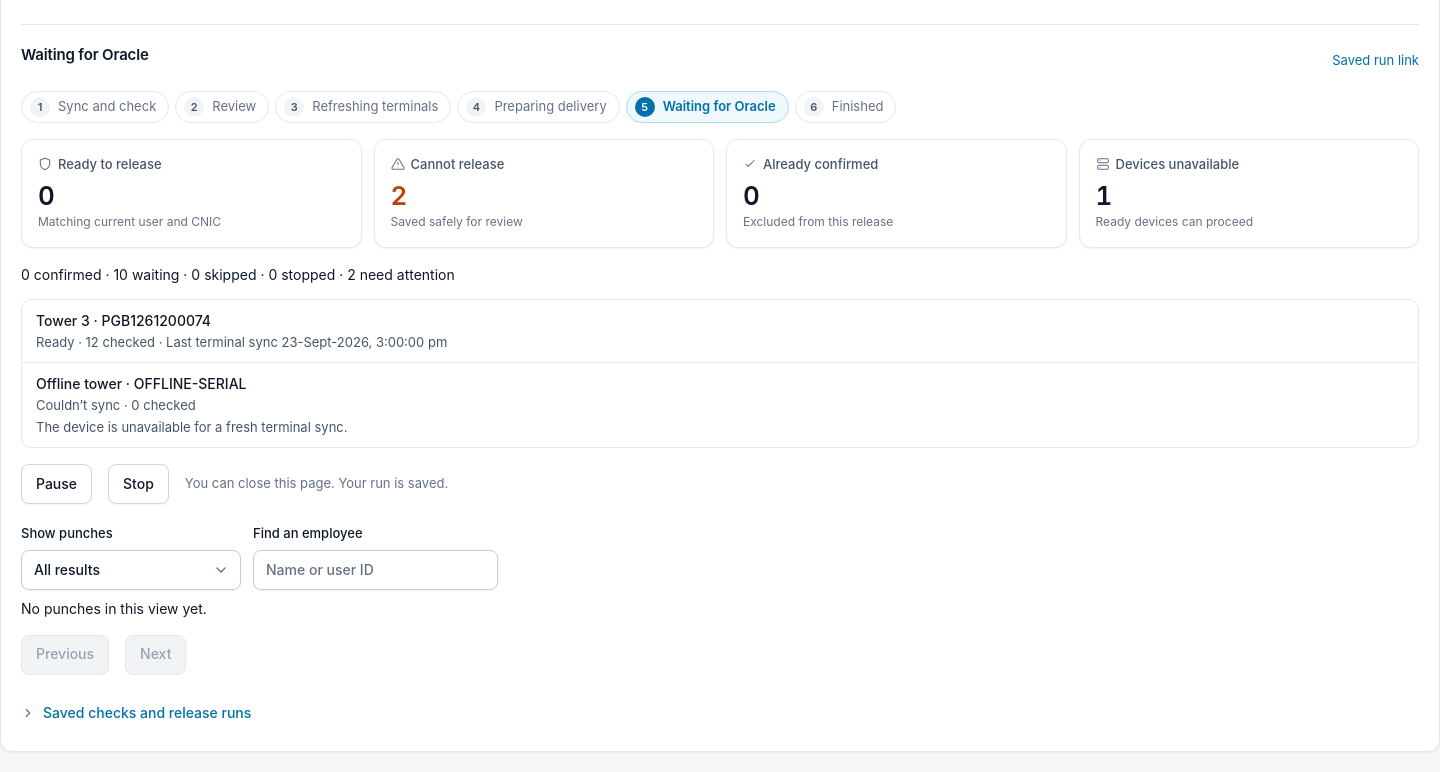
Test: restores a waiting run and explains stop without claiming completion
(page scrolled)
Expected: the heading "Waiting for Oracle" is shown, left=21, top=45, right=149, bottom=65
Click the button "Stop": [138, 484] box left=108, top=464, right=169, bottom=504
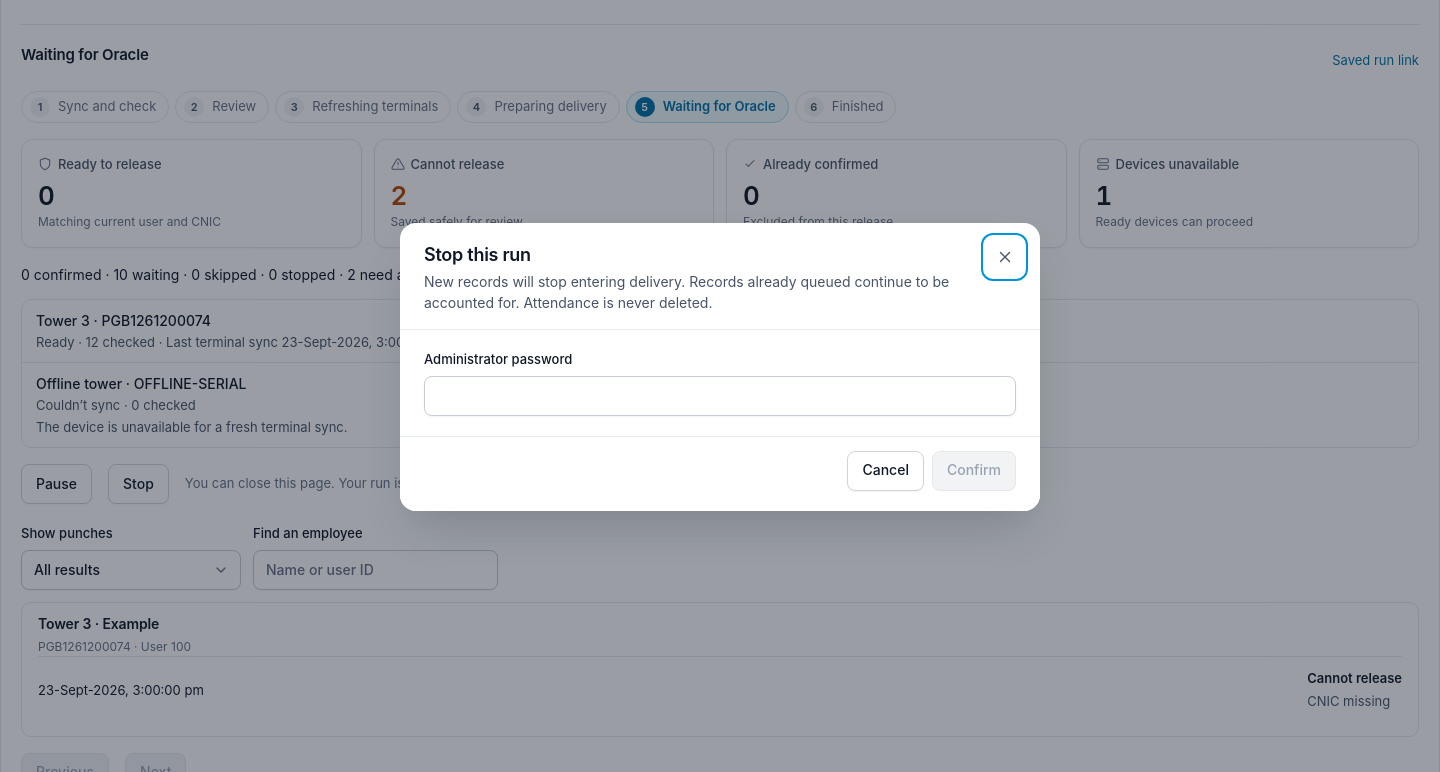
Expected: the text "Records already queued continue to be accounted for" is shown, left=424, top=273, right=949, bottom=311
